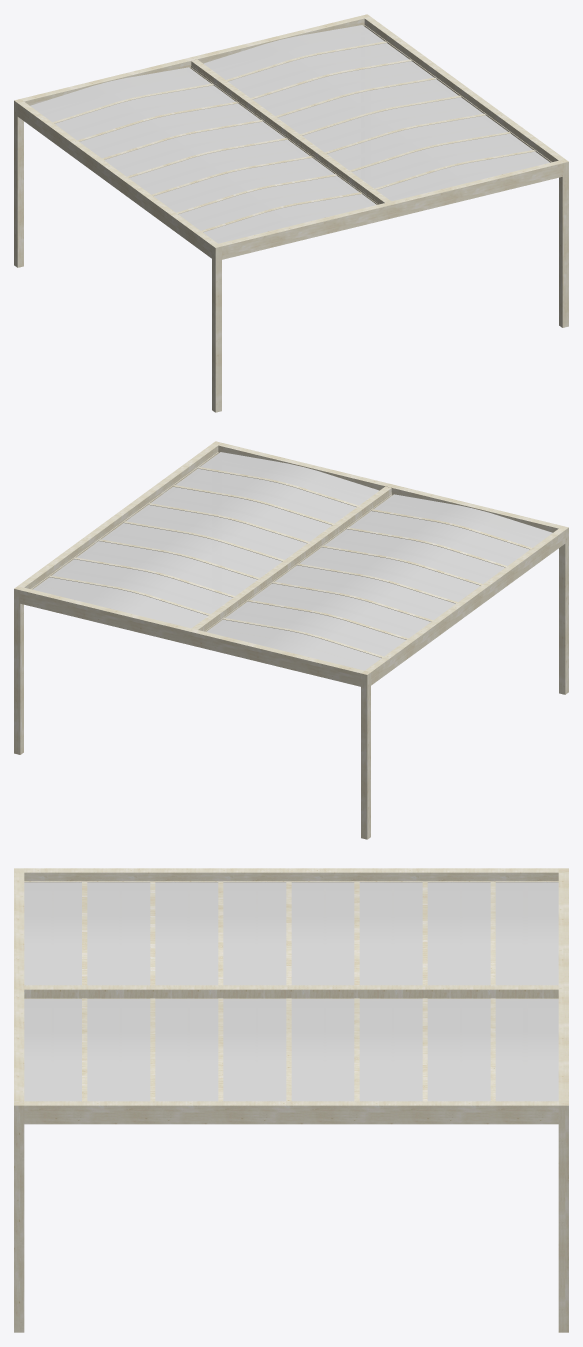
Rendered from hyrcaryaad-h24-w54-d53_whitepine.fbx.
3 renders of one model, top to bottom at view 1: azimuth 30°, elevation 25°; view 2: azimuth 150°, elevation 25°; view 3: azimuth 270°, elevation 25°, orthographic. The views are drawn at different scales.
Visible parts, largest first — view 1: hyrcaryaad-h24-w54-d54-whitepine; view 2: hyrcaryaad-h24-w54-d54-whitepine; view 3: hyrcaryaad-h24-w54-d54-whitepine.
Boxes of the visible parts, x1=… form: hyrcaryaad-h24-w54-d54-whitepine: x1=14, y1=14, x2=568, y2=412; hyrcaryaad-h24-w54-d54-whitepine: x1=14, y1=441, x2=568, y2=839; hyrcaryaad-h24-w54-d54-whitepine: x1=14, y1=868, x2=568, y2=1332.
Size of the model in its own units: 550 by 245 by 543.
2 materials, 1 textured.
